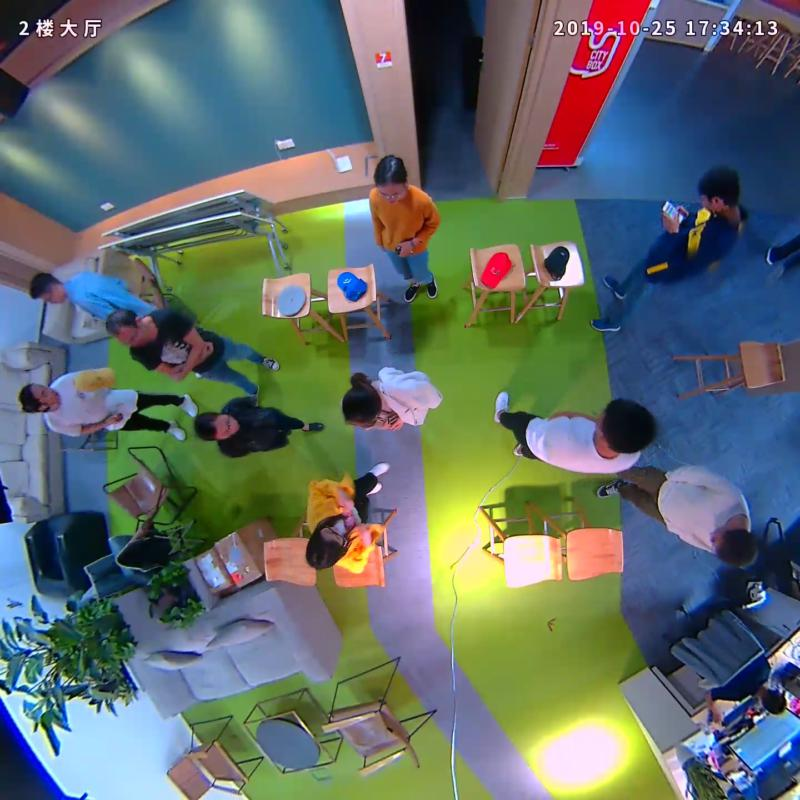head: (596, 398, 656, 454), (305, 524, 350, 570), (711, 526, 760, 568), (697, 167, 740, 213), (103, 307, 148, 347), (372, 155, 407, 206), (341, 384, 380, 428), (193, 411, 239, 442), (17, 382, 60, 412), (29, 272, 66, 305)
